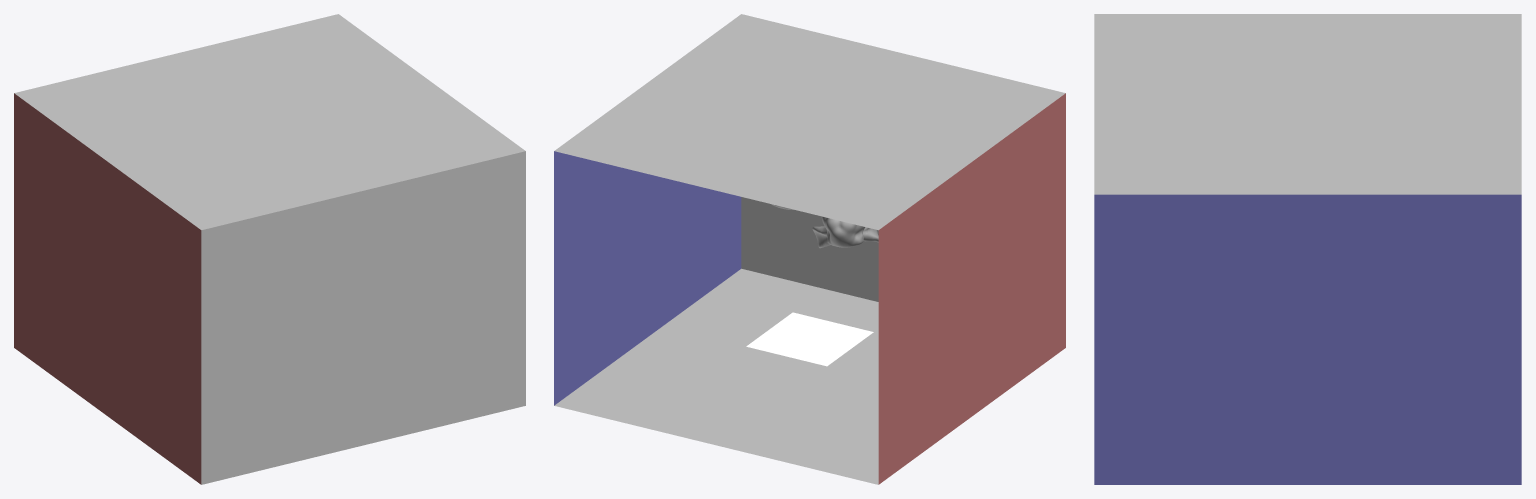
File: cbbunny_area_light.glb
3 views of the same model, side by side, from view 1: azimuth 30°, elevation 25°; view 2: azimuth 150°, elevation 25°; view 3: azimuth 270°, elevation 25° (orthographic). The views are drawn at different scales.
Visible parts, largest first — view 1: backWall, floor, leftWall; view 2: floor, leftWall, ceiling, rightWall, backWall, light, Mesh; view 3: rightWall, floor.
Boxes of the visible parts, x1,y1,x2,y2 form: backWall: (201, 151, 525, 484); floor: (14, 14, 525, 230); leftWall: (14, 93, 201, 484); floor: (554, 14, 1065, 230); leftWall: (878, 93, 1065, 484); ceiling: (554, 268, 878, 484); rightWall: (554, 151, 741, 405); backWall: (741, 197, 878, 301); light: (746, 312, 873, 366); Mesh: (772, 204, 878, 248); rightWall: (1094, 194, 1521, 484); floor: (1094, 14, 1521, 194).
Size of the model in its own units: 2 by 1.5 by 2.
